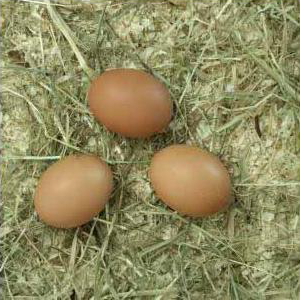egg: (147, 144, 232, 218), (35, 153, 116, 229), (88, 68, 172, 138)
